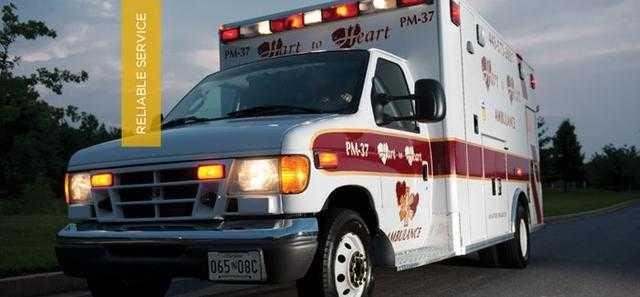car: (53, 0, 546, 296)
